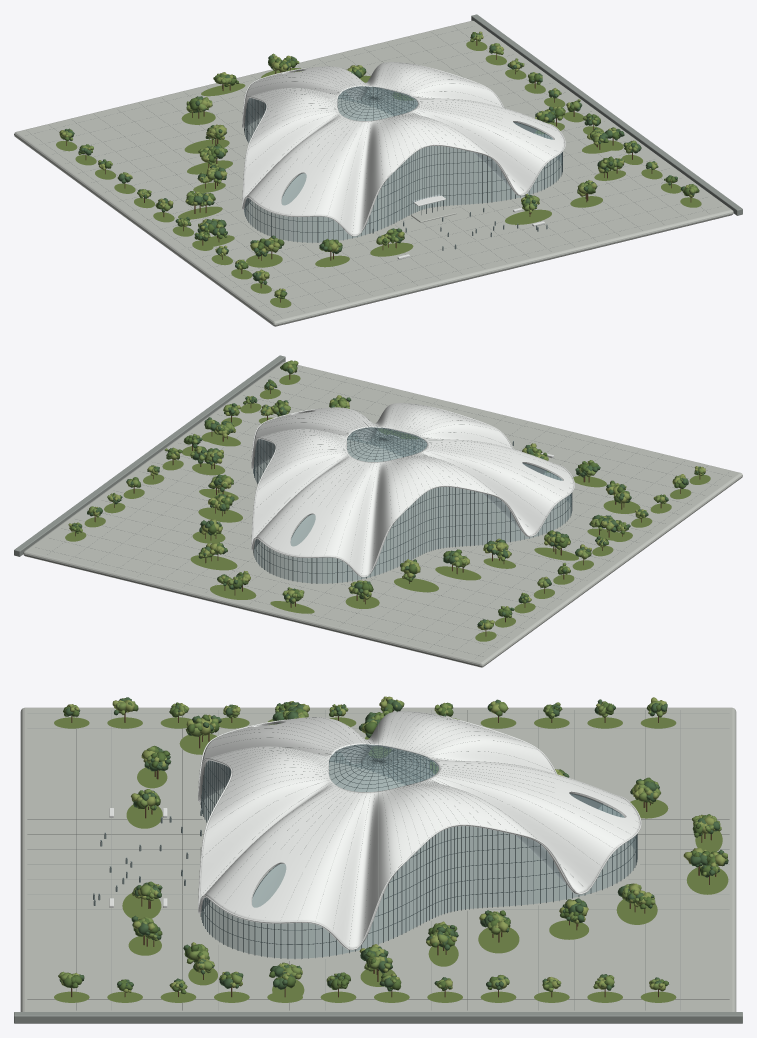
File: museum-desktop.glb
3 renders of one model, top to bottom at view 1: azimuth 30°, elevation 25°; view 2: azimuth 150°, elevation 25°; view 3: azimuth 270°, elevation 25°, orthographic. The views are drawn at different scales.
Parts seen in each view (by area): view 1: Landscape__Promenade | pale stone, Roof__Shell | warm satin white, Base__Promenade | pale stone, Facade__Glass | blue grey architectural, Landscape__Planting beds | meadow, Landscape__Paving joints, Facade__Mullions | charcoal aluminium, Landscape__Foliage 03, Landscape__Foliage 00, Landscape__Foliage 01, Landscape__Foliage 02, Skylight__Glass | blue grey architectural (+4 smaller); view 2: Landscape__Promenade | pale stone, Roof__Shell | warm satin white, Base__Promenade | pale stone, Facade__Glass | blue grey architectural, Landscape__Planting beds | meadow, Landscape__Paving joints, Facade__Mullions | charcoal aluminium, Landscape__Foliage 03, Landscape__Foliage 02, Landscape__Foliage 00, Landscape__Foliage 01, Skylight__Glass | blue grey architectural (+4 smaller); view 3: Landscape__Promenade | pale stone, Roof__Shell | warm satin white, Base__Promenade | pale stone, Facade__Glass | blue grey architectural, Landscape__Planting beds | meadow, Landscape__Paving joints, Facade__Mullions | charcoal aluminium, Landscape__Foliage 03, Landscape__Foliage 00, Landscape__Foliage 01, Landscape__Foliage 02, Skylight__Glass | blue grey architectural (+4 smaller).
Part boxes in pixels (x1,y1,x2,y2): Landscape__Promenade | pale stone: [14, 20, 733, 326]; Roof__Shell | warm satin white: [242, 62, 565, 236]; Base__Promenade | pale stone: [242, 99, 565, 244]; Facade__Glass | blue grey architectural: [244, 88, 561, 242]; Landscape__Planting beds | meadow: [56, 40, 701, 307]; Landscape__Paving joints: [27, 14, 742, 317]; Facade__Mullions | charcoal aluminium: [244, 88, 562, 242]; Landscape__Foliage 03: [62, 33, 694, 297]; Landscape__Foliage 00: [64, 32, 699, 298]; Landscape__Foliage 01: [60, 33, 697, 293]; Landscape__Foliage 02: [59, 31, 693, 297]; Skylight__Glass | blue grey architectural: [338, 86, 417, 120]; Landscape__Promenade | pale stone: [23, 361, 742, 667]; Roof__Shell | warm satin white: [251, 403, 574, 577]; Base__Promenade | pale stone: [251, 440, 574, 585]; Facade__Glass | blue grey architectural: [254, 429, 571, 583]; Landscape__Planting beds | meadow: [65, 374, 710, 641]; Landscape__Paving joints: [14, 355, 729, 658]; Facade__Mullions | charcoal aluminium: [253, 430, 572, 583]; Landscape__Foliage 03: [72, 368, 705, 629]; Landscape__Foliage 02: [68, 364, 705, 630]; Landscape__Foliage 00: [70, 362, 703, 626]; Landscape__Foliage 01: [72, 360, 704, 628]; Skylight__Glass | blue grey architectural: [347, 427, 426, 461]; Landscape__Promenade | pale stone: [20, 707, 736, 1011]; Roof__Shell | warm satin white: [198, 711, 641, 950]; Base__Promenade | pale stone: [198, 762, 640, 960]; Facade__Glass | blue grey architectural: [201, 746, 636, 958]; Landscape__Planting beds | meadow: [54, 717, 728, 1002]; Landscape__Paving joints: [14, 710, 742, 1023]; Facade__Mullions | charcoal aluminium: [200, 747, 637, 958]; Landscape__Foliage 03: [59, 697, 728, 991]; Landscape__Foliage 00: [62, 699, 727, 994]; Landscape__Foliage 01: [58, 699, 727, 991]; Landscape__Foliage 02: [61, 696, 725, 993]; Skylight__Glass | blue grey architectural: [329, 745, 438, 791].
Bounding box in the file's own units: 166 × 27.25 × 164.
